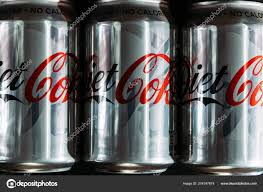can: (76, 1, 178, 180), (180, 2, 261, 179), (0, 2, 77, 176)
